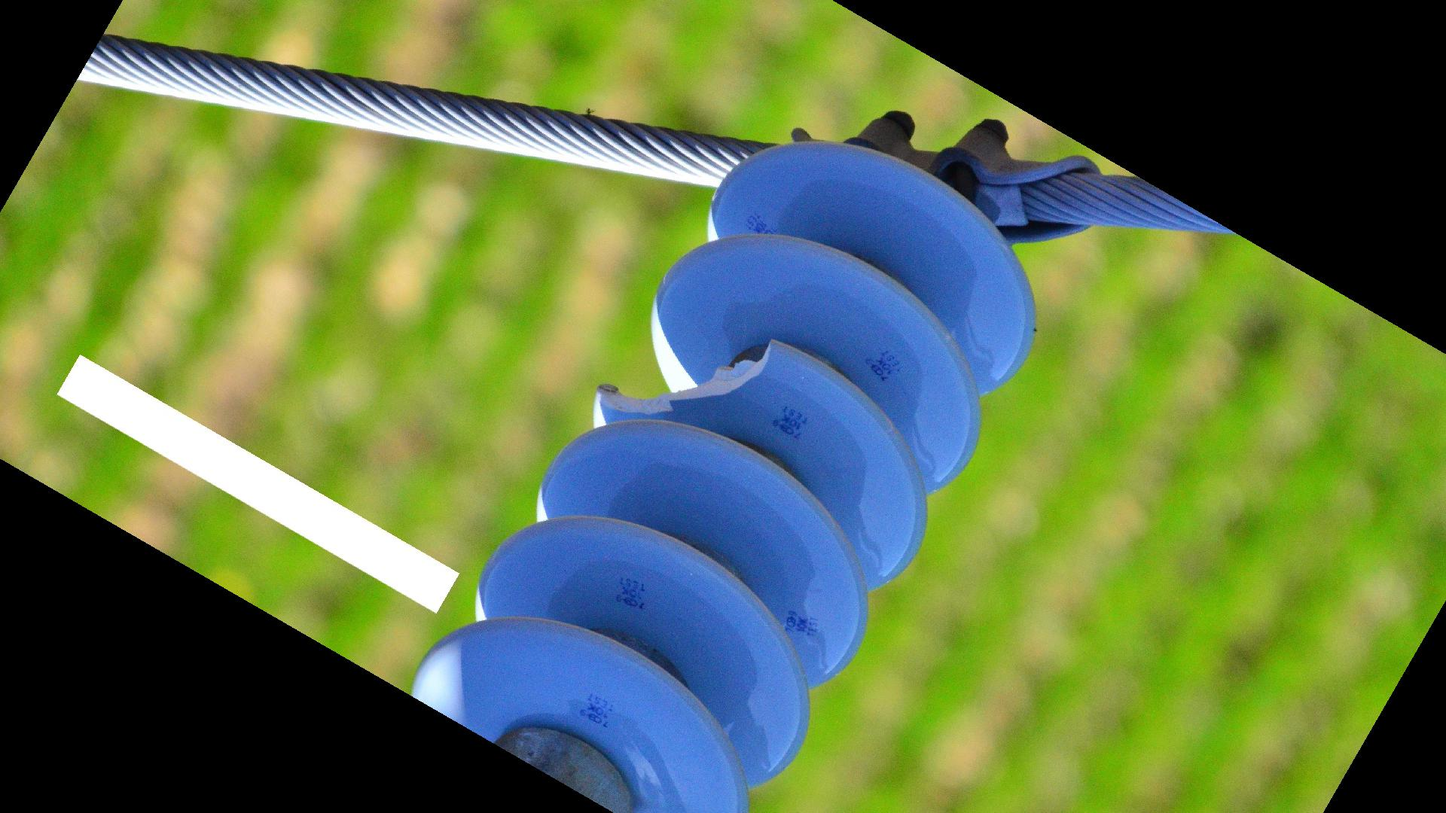insulator: (402, 136, 1051, 813)
insulator_breakage: (584, 330, 791, 425)
